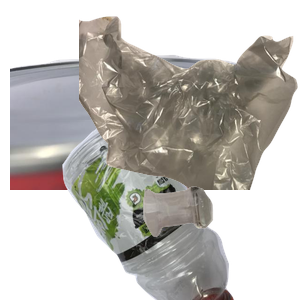glass: (141, 184, 300, 300)
metal: (10, 52, 250, 232)
plastic: (25, 120, 252, 300)
trash: (79, 14, 300, 194)
